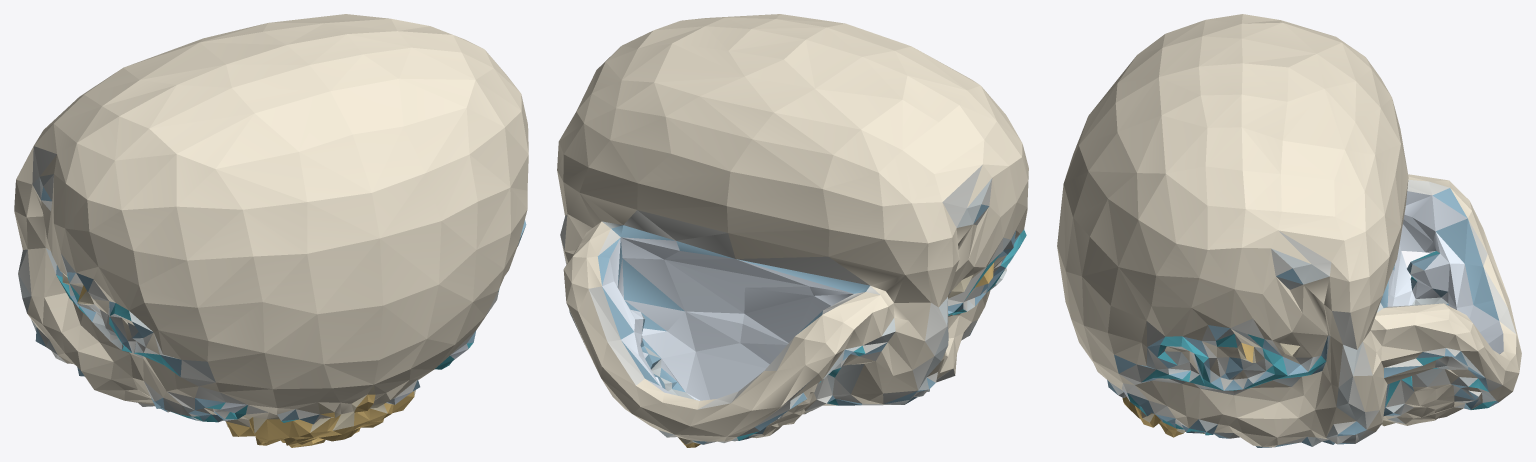
File: sugar_skull_giant.glb
3 views of the same model, side by side, from view 1: azimuth 30°, elevation 25°; view 2: azimuth 150°, elevation 25°; view 3: azimuth 270°, elevation 25° (orthographic). The views are drawn at different scales.
Visible parts, largest first — view 1: Mesh_0; view 2: Mesh_0; view 3: Mesh_0.
Boxes of the visible parts, x1,y1,x2,y2 form: Mesh_0: (14, 14, 528, 447); Mesh_0: (557, 14, 1028, 447); Mesh_0: (1057, 14, 1521, 447).
Bounding box in the file's own units: 1.4 × 1.1 × 1.3.
